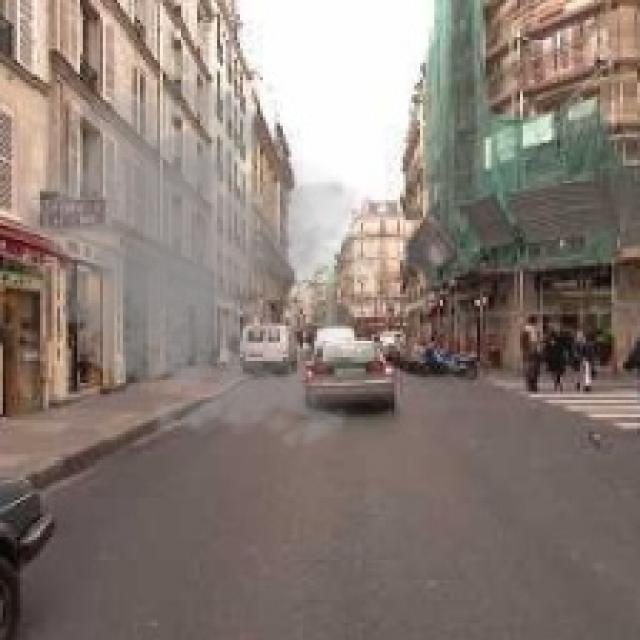smoke: (6, 52, 414, 457)
